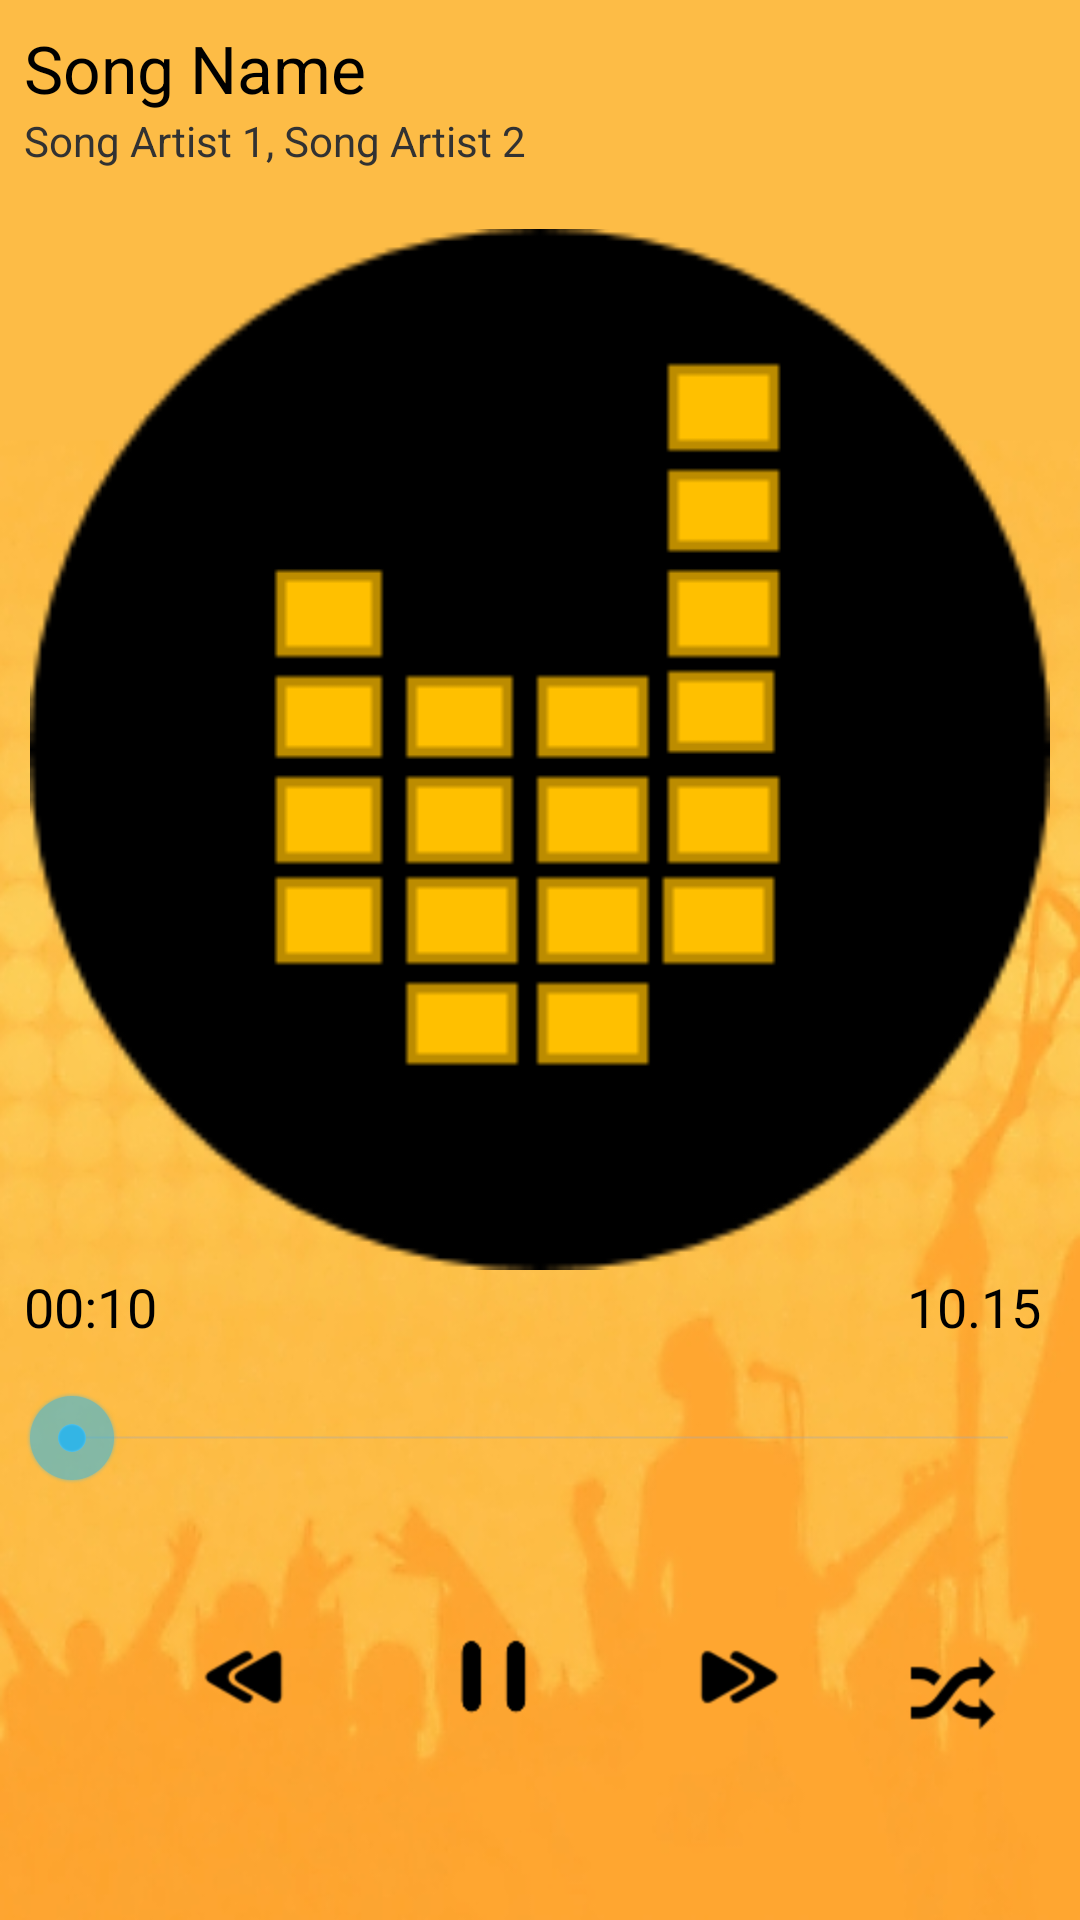

Point at icon controls on the screen. Image size 1080w x 1920h, points as (x=x, y=y).
shuffle: (x=963, y=1692)
